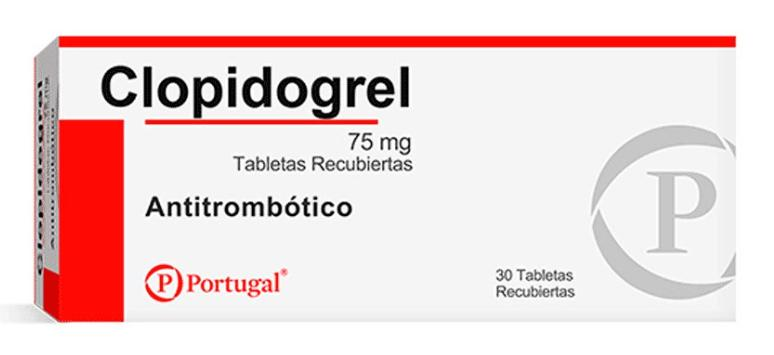brand: (185, 267, 280, 302)
extra_detail: (142, 194, 357, 226)
net_weight: (490, 264, 581, 302)
product_name: (96, 58, 415, 122)
